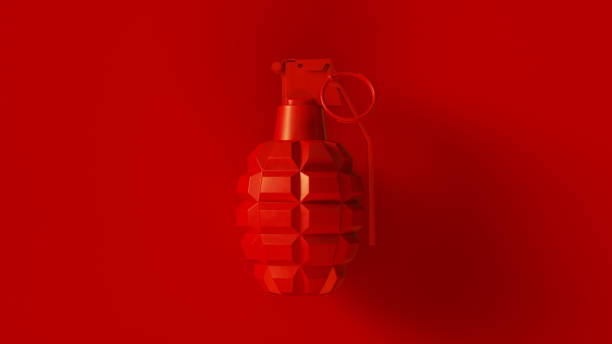e1: (231, 61, 385, 302)
